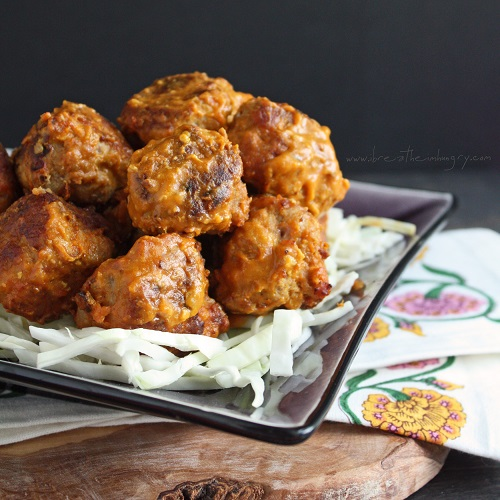meatballs: (124, 131, 238, 229), (227, 200, 321, 308), (101, 238, 209, 330), (4, 203, 95, 311), (237, 106, 336, 200), (23, 108, 124, 199), (128, 77, 235, 132)
